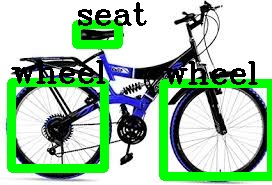seat: (76, 24, 118, 44)
wheel: (163, 83, 271, 176), (11, 82, 104, 168)
